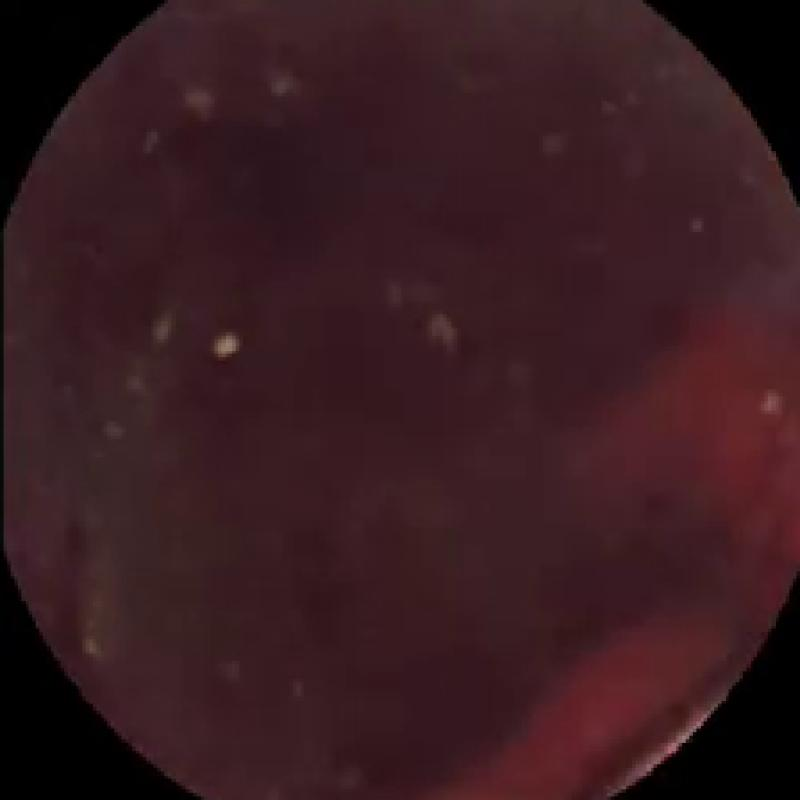bleeding: (446, 285, 799, 800)
